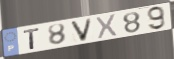8: (47, 23, 68, 47), (122, 11, 143, 34)
9: (146, 6, 167, 31)
T: (23, 27, 42, 51)
V: (69, 17, 94, 43)
X: (95, 13, 118, 40)
